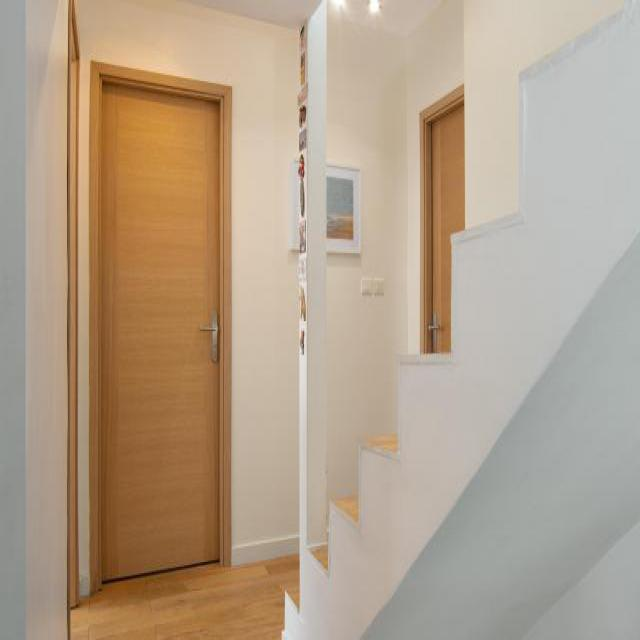close: (86, 39, 240, 606)
